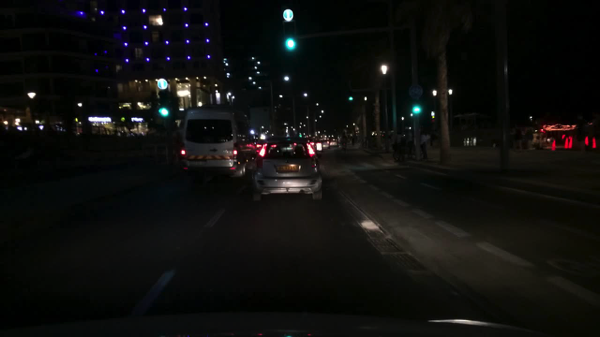bike: (390, 145, 411, 162), (340, 140, 351, 150)
bus: (175, 107, 253, 188)
car: (250, 141, 323, 206), (309, 140, 318, 154), (315, 140, 323, 153), (322, 139, 329, 149), (330, 139, 337, 147)
person: (419, 130, 432, 162), (406, 133, 417, 160)
rider: (392, 132, 405, 149), (339, 133, 350, 145)
traffic light: (281, 20, 298, 53), (157, 92, 169, 120), (410, 105, 424, 118)
traffic sign: (407, 84, 424, 100), (281, 8, 294, 22), (156, 77, 168, 90)
